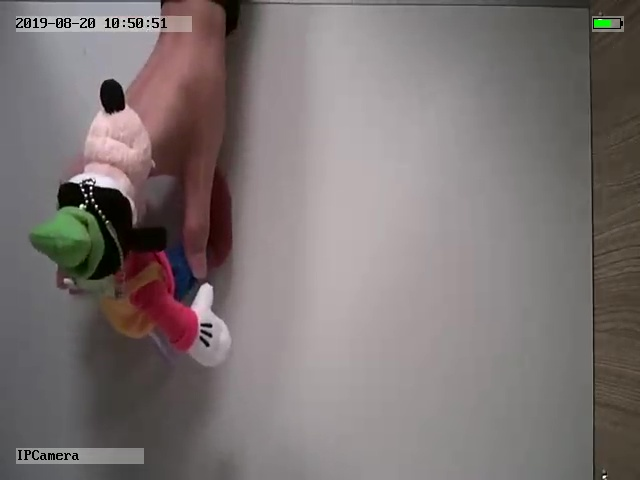goofy: (27, 78, 234, 370)
